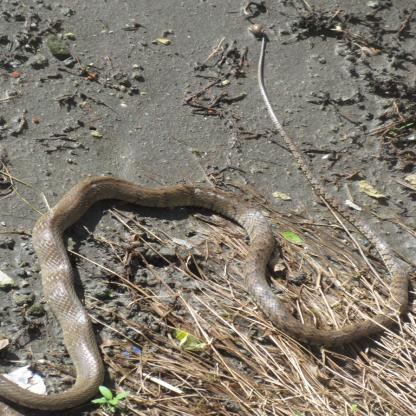Snake: (32, 175, 374, 403)
